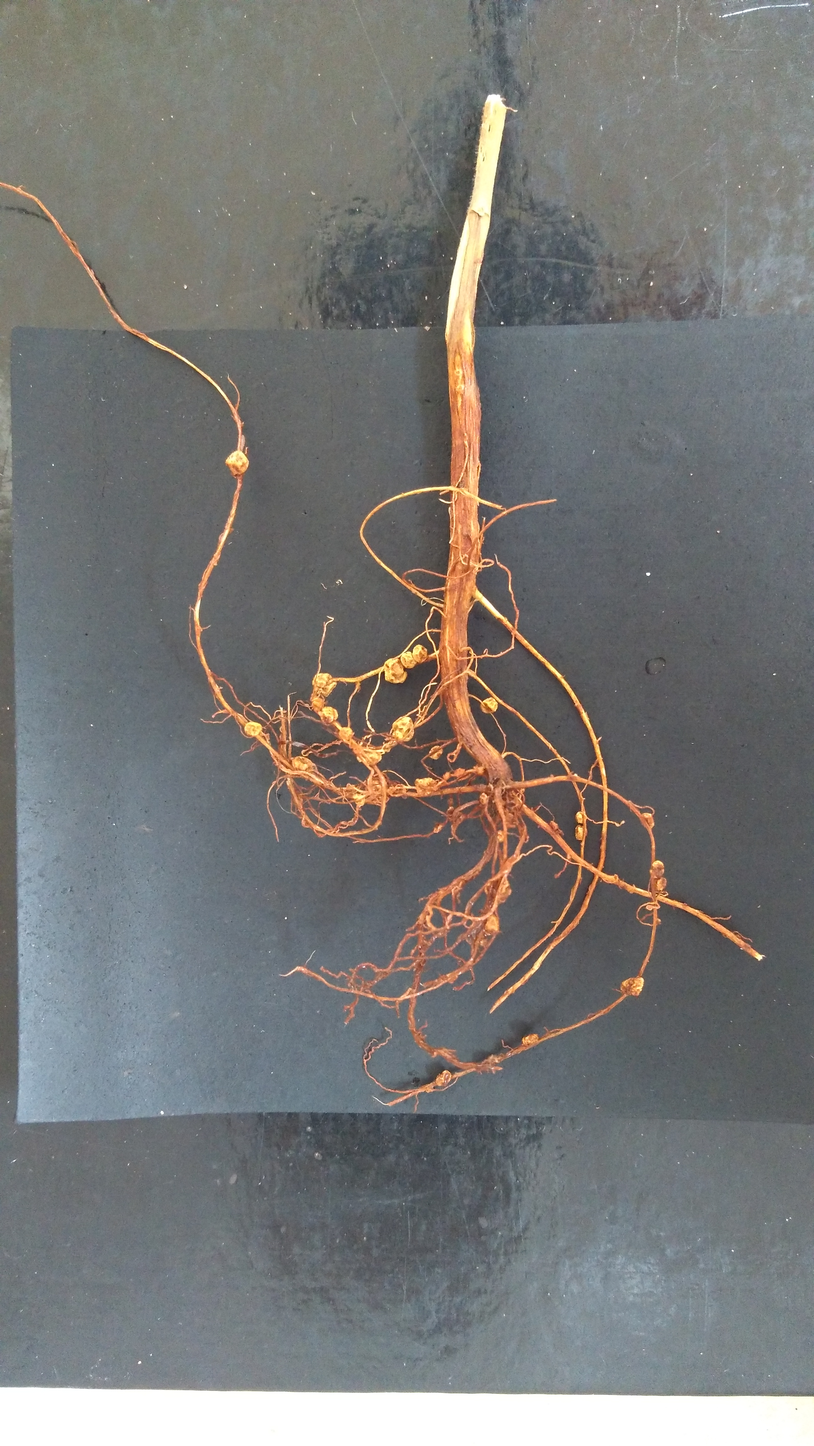nodule: (223, 447, 250, 479), (382, 656, 408, 685), (483, 877, 513, 901), (311, 671, 338, 697), (390, 715, 415, 743), (620, 976, 646, 998), (413, 776, 438, 797), (482, 912, 502, 938), (365, 775, 390, 795), (319, 705, 340, 726), (411, 642, 429, 666), (479, 696, 499, 716), (290, 755, 314, 771), (243, 720, 263, 739), (399, 650, 418, 670), (435, 1068, 453, 1089), (362, 750, 382, 767), (648, 858, 665, 878), (519, 1031, 539, 1047), (641, 810, 655, 831), (427, 745, 444, 761), (338, 725, 354, 741), (655, 876, 669, 894), (550, 819, 564, 836), (310, 696, 324, 712), (351, 793, 367, 807), (450, 766, 465, 779), (574, 824, 584, 842), (478, 791, 489, 806), (431, 821, 444, 833), (574, 810, 584, 824), (495, 829, 503, 841)
